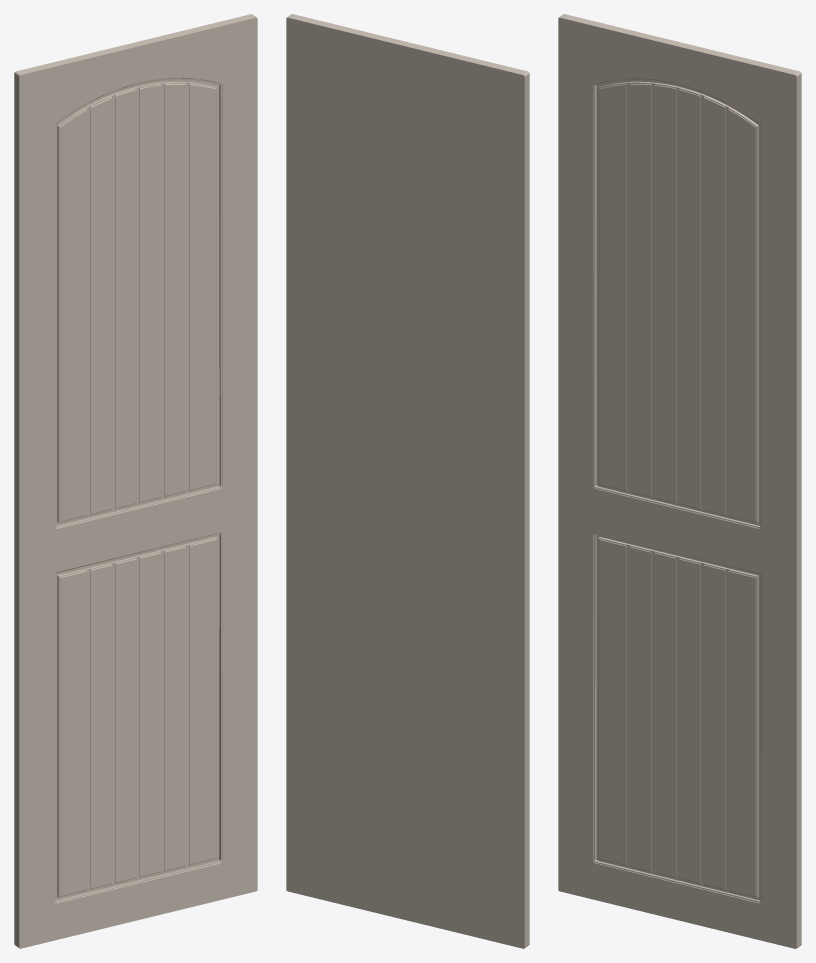
The model's file is NRD BOY KPK 16.glb.
The picture shows the model from 3 angles, left to right: view 1: azimuth 30°, elevation 25°; view 2: azimuth 150°, elevation 25°; view 3: azimuth 330°, elevation 25°; orthographic projection.
Visible parts, largest first — view 1: NRD BOY KPK 16; view 2: NRD BOY KPK 16; view 3: NRD BOY KPK 16.
Part boxes in pixels (x1,y1,x2,y2): NRD BOY KPK 16: (14, 14, 257, 948); NRD BOY KPK 16: (286, 14, 529, 948); NRD BOY KPK 16: (558, 14, 801, 948).
Size of the model in its own units: 0.4999 by 1.75 by 0.018.
